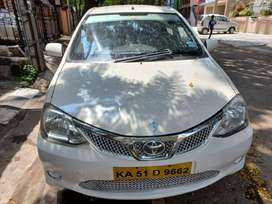KA51D9662: (113, 162, 192, 180)
